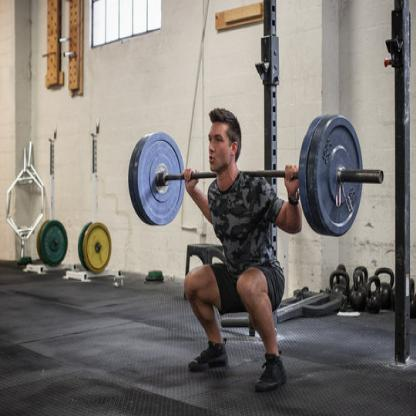Barbell: (378, 169, 386, 186)
